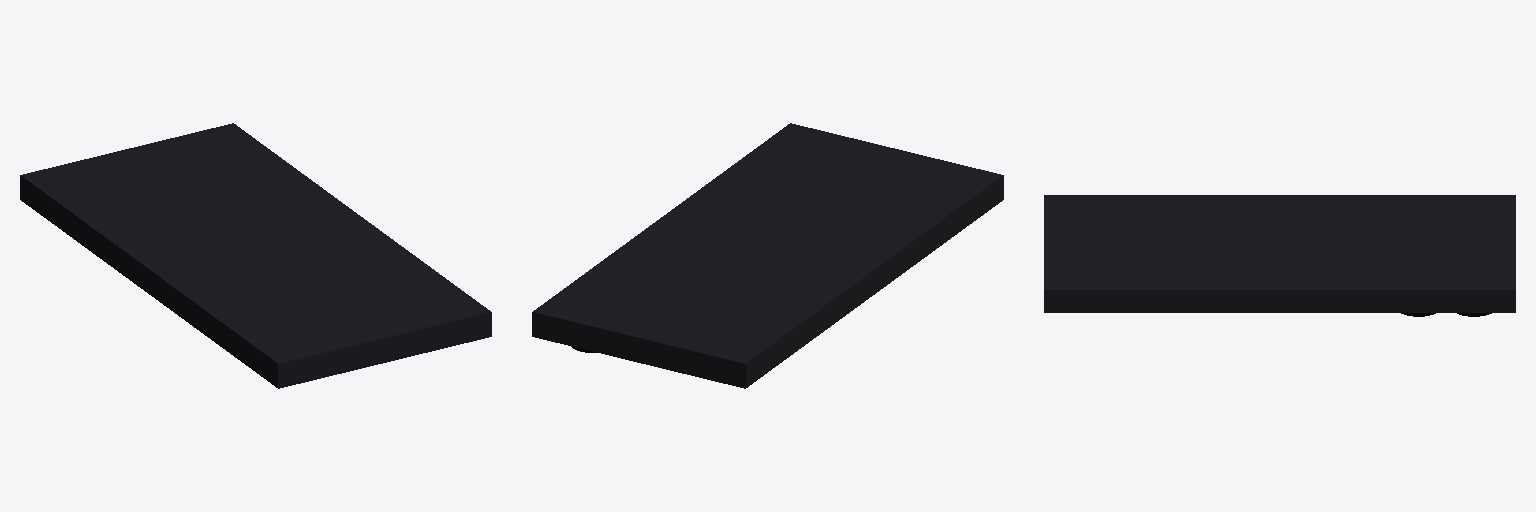
robot.urdf — iphone_17_pro_max:
<?xml version="1.0"?>
<!-- iPhone 17 Pro Max: generated by imuninn from Apple's dimensional drawings (iphone-frames dataset). Frames: device = display centre on the front glass (x right, y top, z out of the screen); cam_*_optical = OpenCV axes. Geometry and mass are approximate. -->
<robot name="iphone_17_pro_max">
  <material name="iphone_body">
    <color rgba="0.15 0.15 0.17 1" />
  </material>
  <material name="iphone_lens">
    <color rgba="0.05 0.05 0.06 1" />
  </material>
  <link name="device">
    <visual name="body">
      <origin xyz="0 0 -0.004375" rpy="0 0 0" />
      <geometry>
        <box size="0.07798 0.16343 0.00875" />
      </geometry>
      <material name="iphone_body" />
    </visual>
    <collision name="body">
      <origin xyz="0 0 -0.004375" rpy="0 0 0" />
      <geometry>
        <box size="0.07798 0.16343 0.00875" />
      </geometry>
    </collision>
    <visual name="lens_ultra_wide">
      <origin xyz="0.02462 0.067345 -0.010965" rpy="0 0 0" />
      <geometry>
        <cylinder radius="0.0081" length="0.00443" />
      </geometry>
      <material name="iphone_lens" />
    </visual>
    <visual name="lens_main">
      <origin xyz="0.02462 0.048105 -0.010965" rpy="0 0 0" />
      <geometry>
        <cylinder radius="0.0081" length="0.00443" />
      </geometry>
      <material name="iphone_lens" />
    </visual>
    <visual name="lens_telephoto">
      <origin xyz="0.00663 0.057725 -0.010965" rpy="0 0 0" />
      <geometry>
        <cylinder radius="0.0081" length="0.00443" />
      </geometry>
      <material name="iphone_lens" />
    </visual>
    <inertial>
      <origin xyz="0 0 -0.004375" rpy="0 0 0" />
      <mass value="0.256" />
      <inertia ixx="0.000571433" ixy="0" ixz="0" iyy="0.000131359" iyz="0" izz="0.000699525" />
    </inertial>
  </link>
  <link name="magsafe" />
  <joint name="device_to_magsafe" type="fixed">
    <parent link="device" />
    <child link="magsafe" />
    <origin xyz="0 5e-06 -0.00875" rpy="3.14159265 0 3.14159265" />
  </joint>
  <link name="cam_ultra_wide_optical" />
  <joint name="device_to_cam_ultra_wide_optical" type="fixed">
    <parent link="device" />
    <child link="cam_ultra_wide_optical" />
    <origin xyz="0.02462 0.067345 -0.01318" rpy="3.14159265 0 -1.57079633" />
  </joint>
  <link name="cam_main_optical" />
  <joint name="device_to_cam_main_optical" type="fixed">
    <parent link="device" />
    <child link="cam_main_optical" />
    <origin xyz="0.02462 0.048105 -0.01318" rpy="3.14159265 0 -1.57079633" />
  </joint>
  <link name="cam_telephoto_optical" />
  <joint name="device_to_cam_telephoto_optical" type="fixed">
    <parent link="device" />
    <child link="cam_telephoto_optical" />
    <origin xyz="0.00663 0.057725 -0.01318" rpy="3.14159265 0 -1.57079633" />
  </joint>
  <link name="cam_front_optical" />
  <joint name="device_to_cam_front_optical" type="fixed">
    <parent link="device" />
    <child link="cam_front_optical" />
    <origin xyz="0.00732 0.073805 0" rpy="0 0 -1.57079633" />
  </joint>
  <link name="imu" />
  <joint name="device_to_imu" type="fixed">
    <parent link="device" />
    <child link="imu" />
    <origin xyz="0 0 0" rpy="0 0 0" />
  </joint>
</robot>

--- What the picture shows (computed from the rendered views, not written in the file) ---
The picture shows the robot from 3 angles, left to right: view 1: azimuth 30°, elevation 25°; view 2: azimuth 150°, elevation 25°; view 3: azimuth 270°, elevation 25°; orthographic projection.
Robot: iphone_17_pro_max — 7 links, 6 joints (6 fixed); root link device; default pose: every joint at zero.
Links seen in each view (by area): view 1: device; view 2: device; view 3: device.
Boxes of the visible links, left/top/right/bottom form: device: left=20, top=123, right=491, bottom=388; device: left=532, top=123, right=1003, bottom=388; device: left=1044, top=195, right=1515, bottom=316.
Bounding box of the posed robot: 0.078 × 0.1634 × 0.0132 m (x, y, z).
Geometry: primitives only (box / cylinder / sphere), no mesh files.
